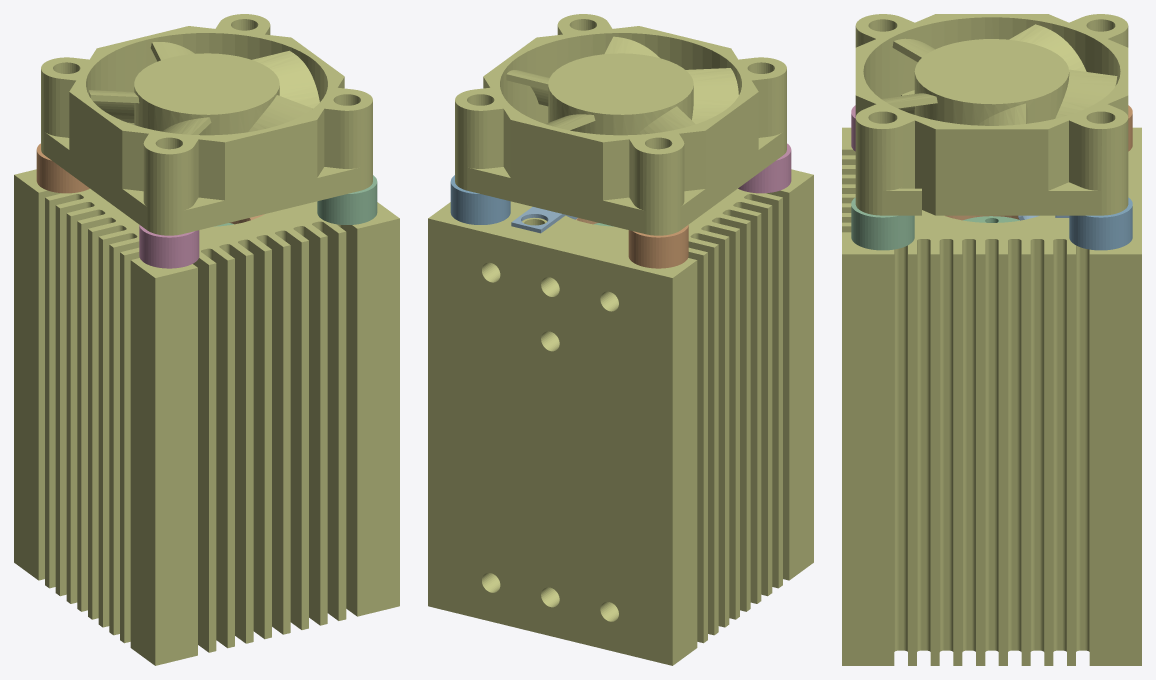
Rendered from case-04_astra6.glb.
3 renders of one model, left to right at view 1: azimuth 30°, elevation 25°; view 2: azimuth 150°, elevation 25°; view 3: azimuth 270°, elevation 25°, orthographic. The views are drawn at different scales.
Parts seen in each view (by area): view 1: c00001, c00011, c00007, c00008, c00009; view 2: c00001, c00011, c00009, c00010, c00007, c00006; view 3: c00001, c00011, c00008, c00010.
Part boxes in pixels (x1,y1,x2,y2): c00001: (14,169,399,665); c00011: (41,14,372,235); c00007: (139,225,199,268); c00008: (317,175,377,224); c00009: (36,143,89,193); c00001: (428,169,813,665); c00011: (455,14,786,235); c00009: (628,225,688,268); c00010: (450,175,510,224); c00007: (738,143,791,193); c00006: (511,207,577,233); c00001: (842,127,1141,665); c00011: (855,14,1128,215); c00008: (851,197,914,250); c00010: (1069,197,1132,250).
Size of the model in its own units: 33 by 65 by 33.
